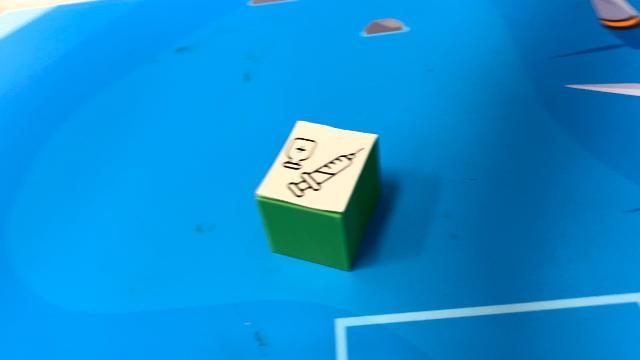syringe: (254, 119, 382, 271)
